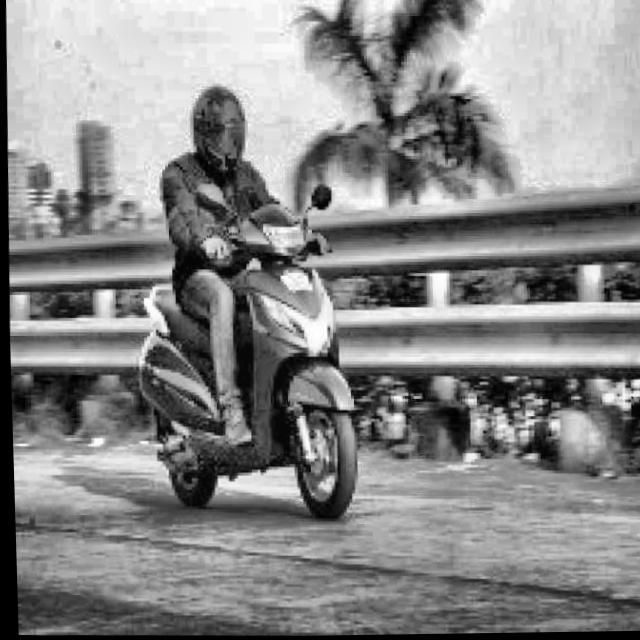motorcycle: (108, 179, 373, 533)
